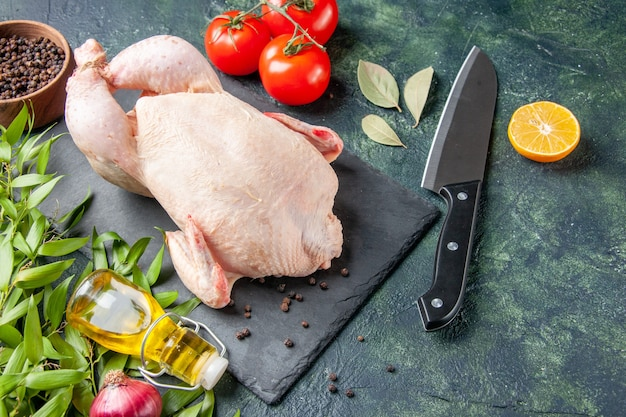knife: (416, 42, 500, 333)
